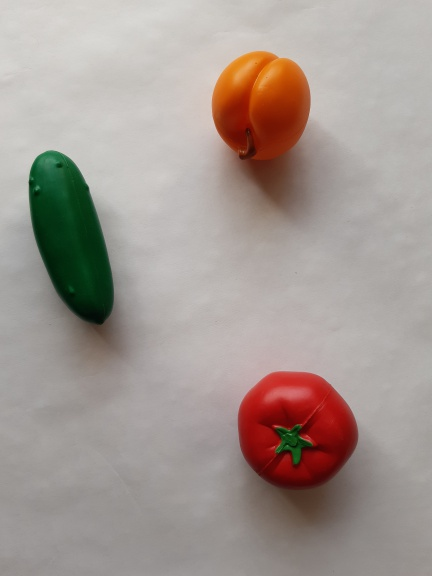apricot: (206, 43, 324, 173)
cucumber: (10, 138, 127, 336)
tomato: (232, 365, 372, 498)
